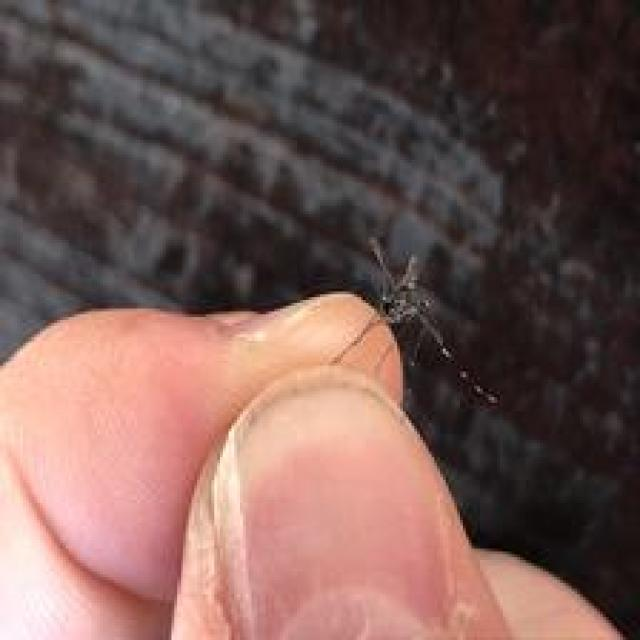Aedes albopictus: (334, 233, 503, 413)
